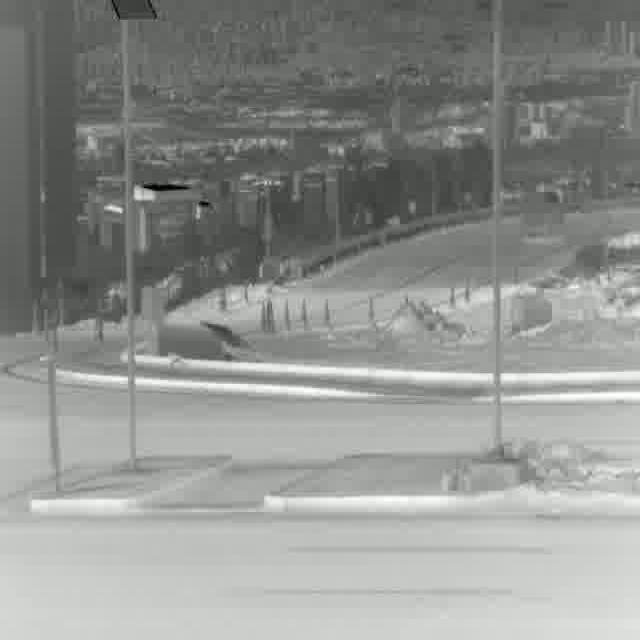Car: (520, 190, 566, 247)
